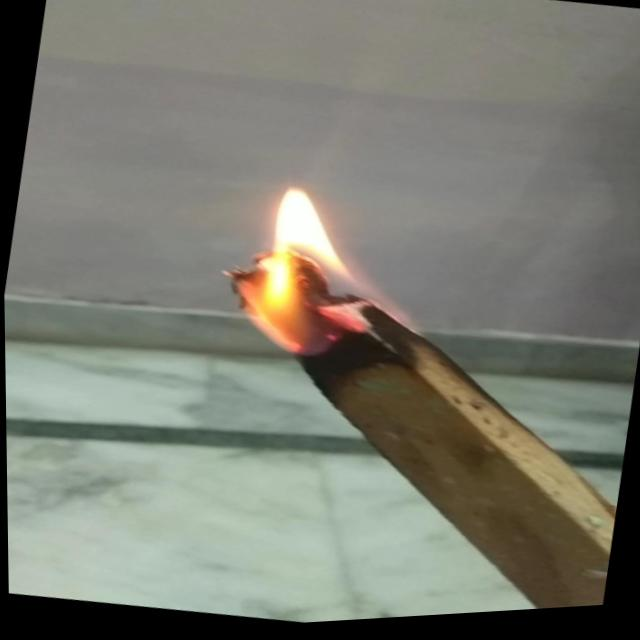fire: (189, 162, 435, 381)
